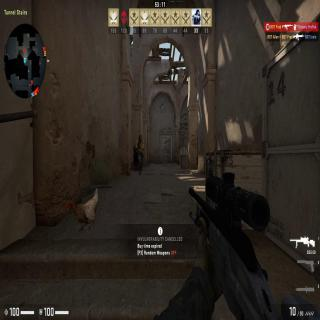T-Body: (134, 133, 145, 176)
T-Head: (138, 134, 142, 142)
